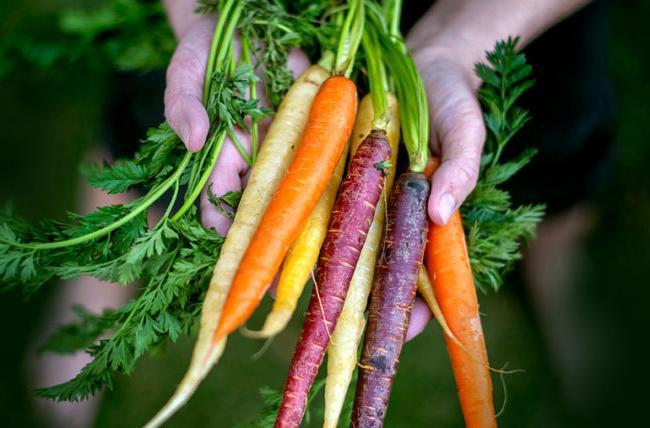carrot: (193, 47, 313, 337), (434, 219, 513, 428)
